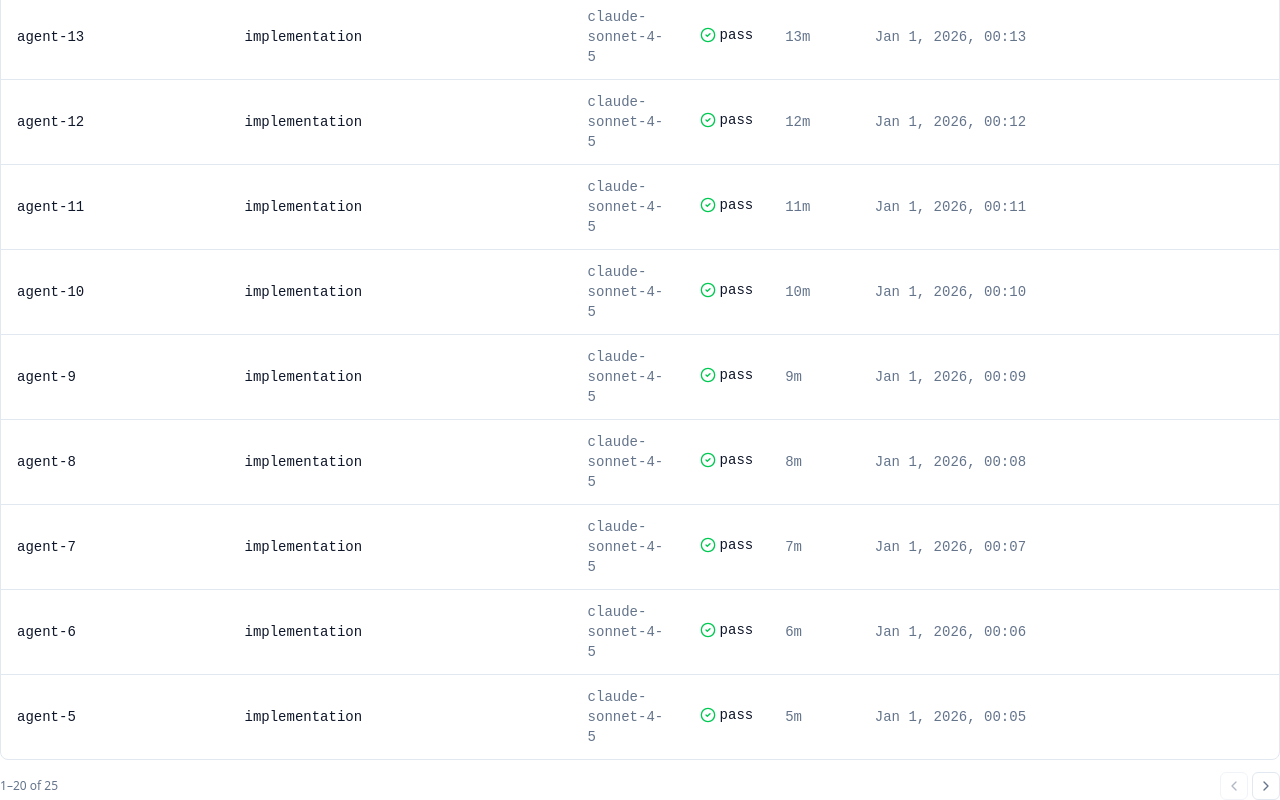
Test case: CompletedAgentsTable › pagination › navigates back to previous page when clicking prev button
The image size is (1280, 800).
(page scrolled)
Note: Go to page 2
Click the 2nd button at (1266, 786), box [1252,772,1279,799]
(page scrolled)
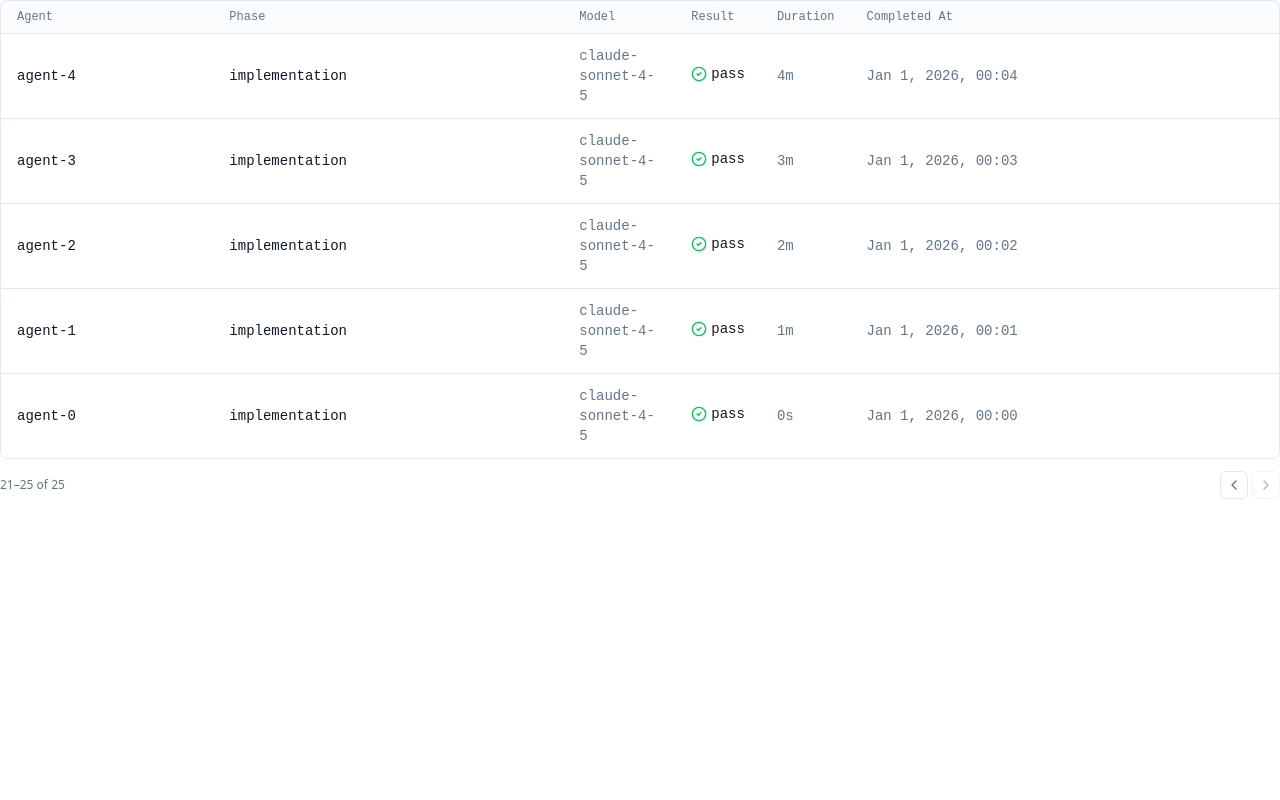
Check: the text "21–25 of 25" is shown, box [0,477,65,493]
Note: Click prev button (first button)
Click the 1st button at (1234, 485), box [1220,471,1248,499]
(page scrolled)
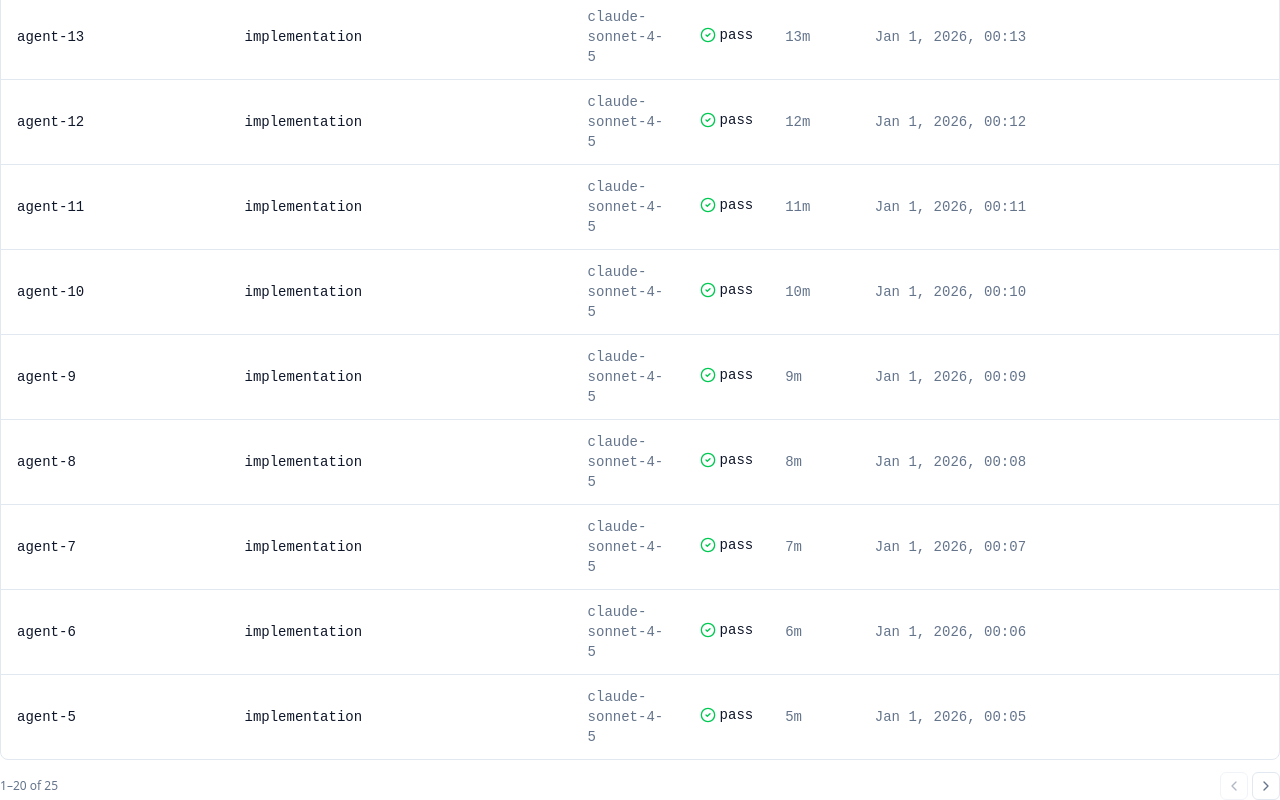
Check: the text "1–20 of 25" is shown, box [0,778,58,794]
